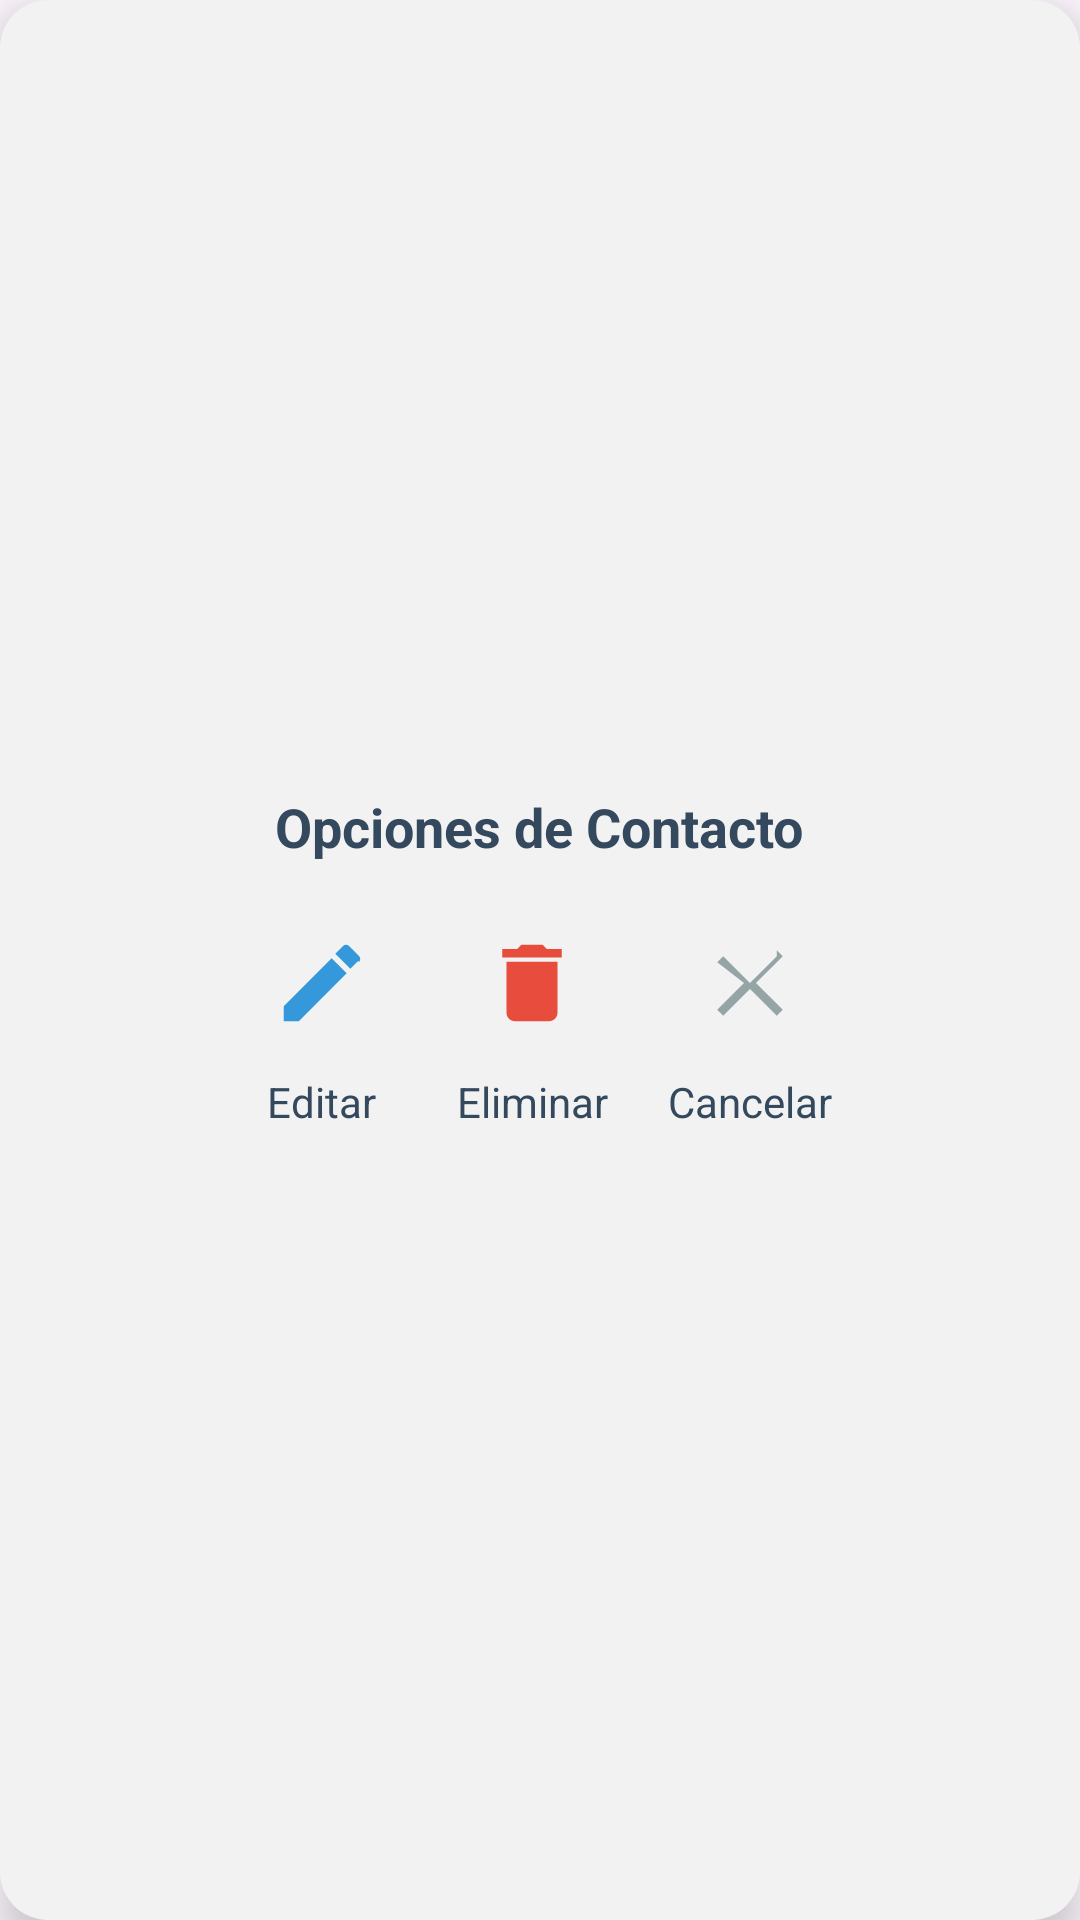

Where icons sit on this 1080w x 1920h app screen, as (x1, y1, x2, y2):
close: (717, 951, 783, 1016)
delete: (502, 944, 562, 1022)
